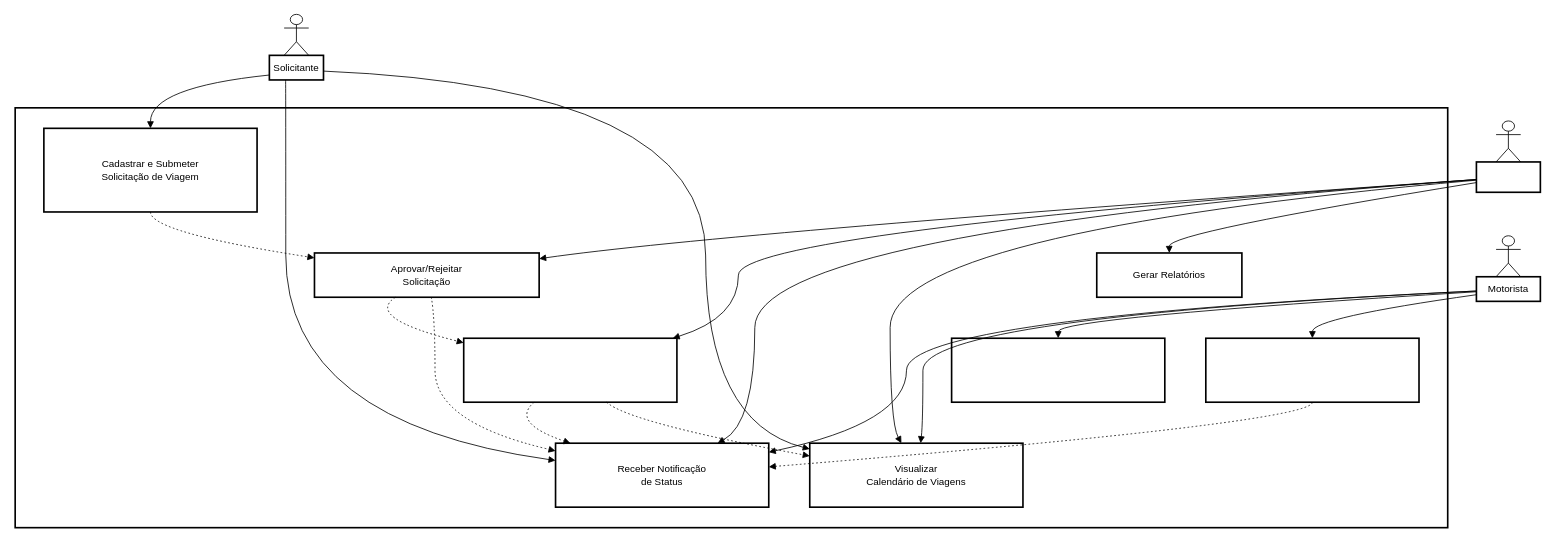
Image size: 1555x543. Some labels were removed from this diagram. Each missing label, with the centre of its shape:
Atribuir Motorista e Veículo: the point at 569,370
Gerenciar Viagens Programadas: the point at 1057,370
Gestor: the point at 1508,177
Registrar Execução de Viagem: the point at 1312,370
